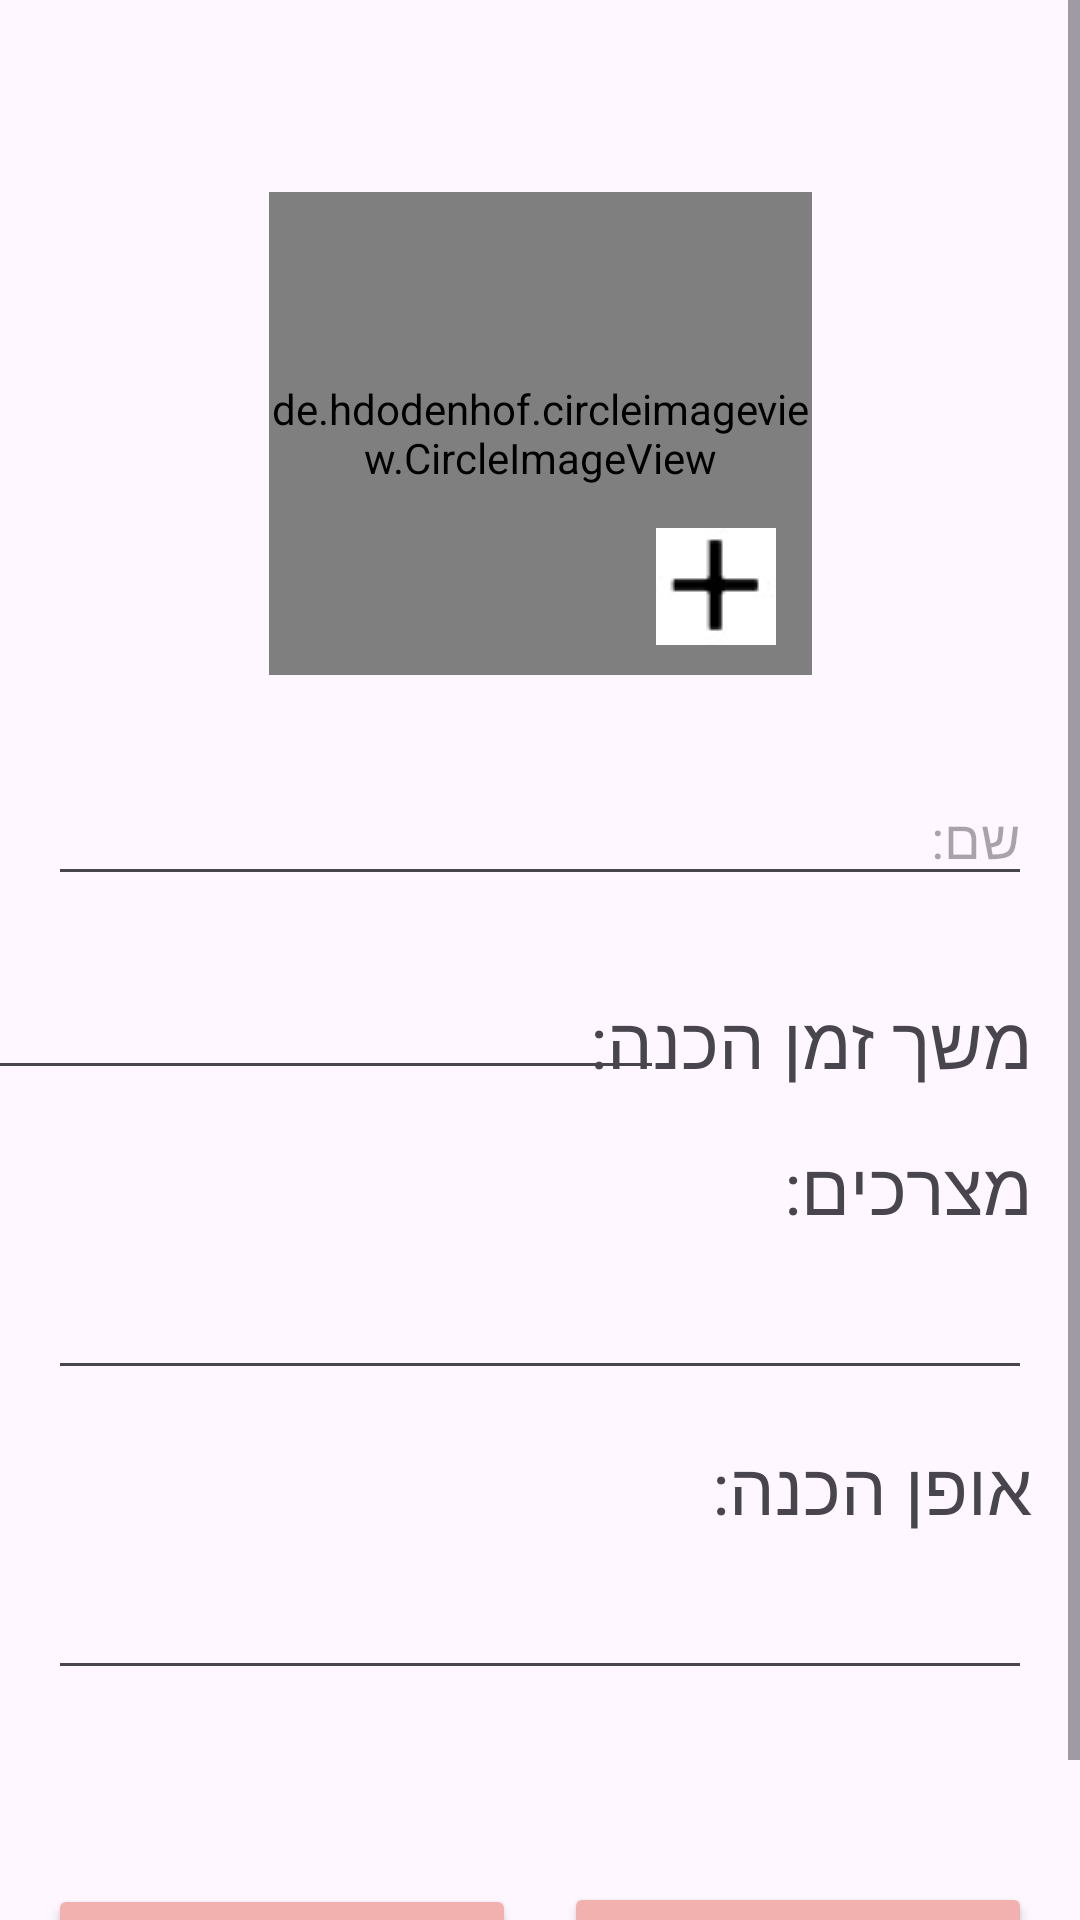

Where to tap for icons on this 1080px x 1920px app screen, as (x=x, y=y):
plus: (x=716, y=586)
